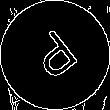P_SE: (25, 24, 85, 86)
